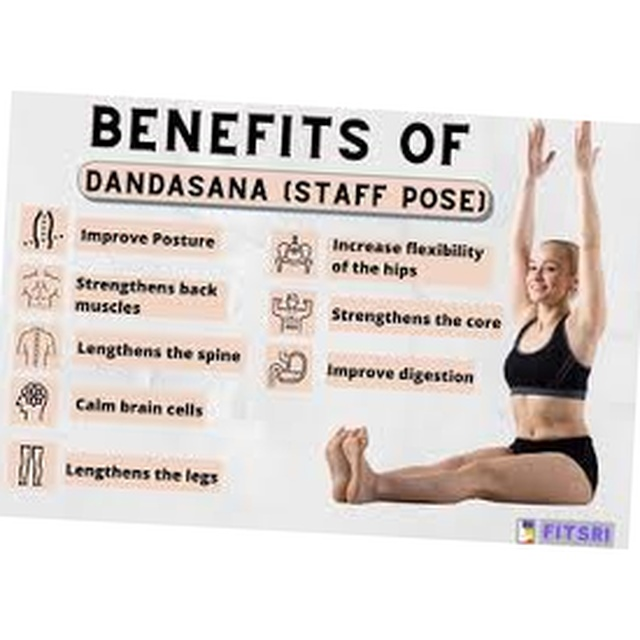Staff_Pose: (327, 115, 608, 507)
